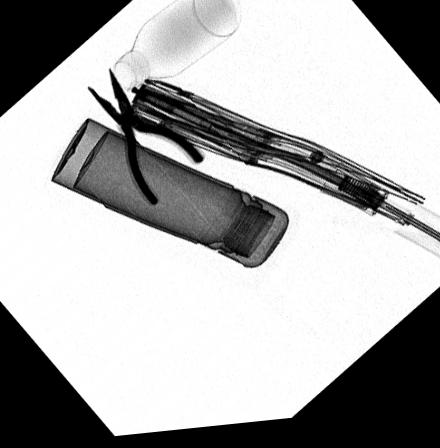Pliers: (85, 69, 208, 213)
